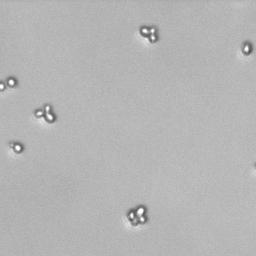budding: (33, 103, 60, 125), (138, 25, 163, 47), (8, 141, 25, 154)
cluster: (125, 206, 151, 227)
individual: (242, 42, 253, 56), (6, 78, 18, 88), (1, 81, 7, 93)
